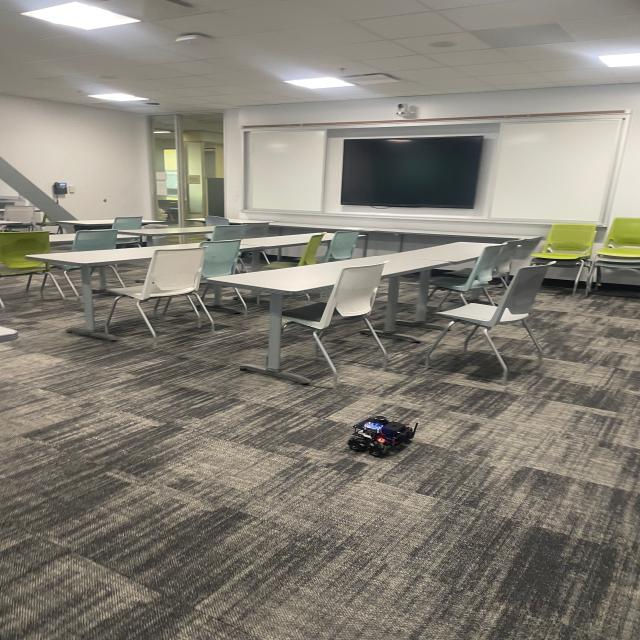ArduinoCar: (347, 416, 415, 459)
